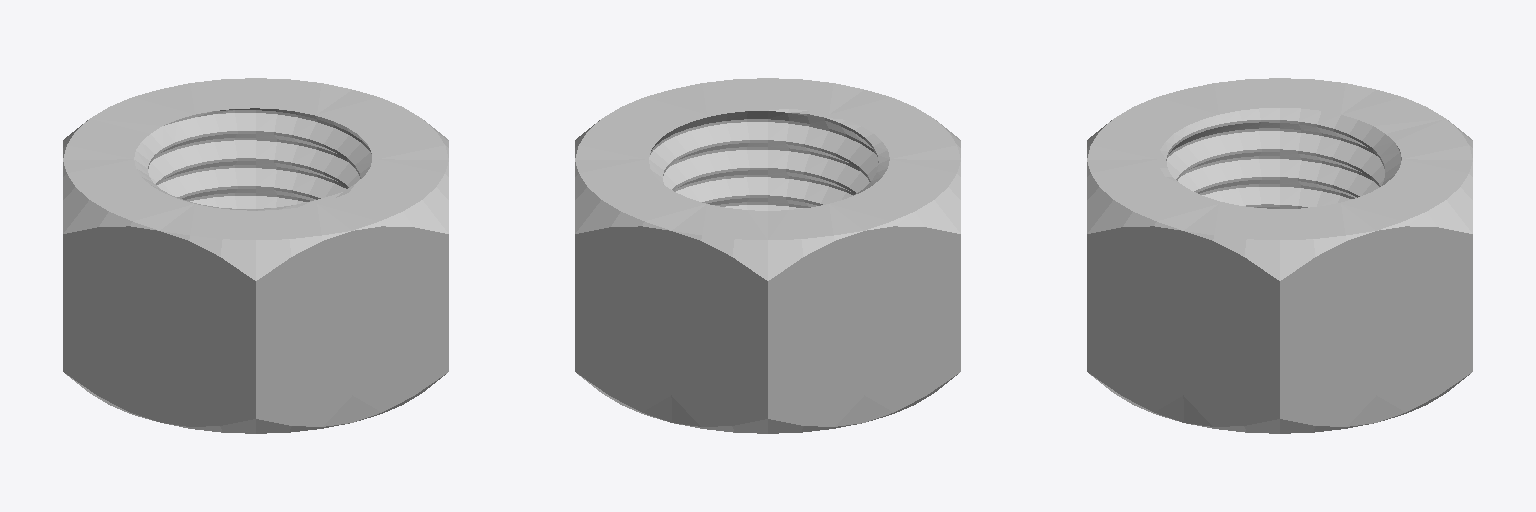
Rendered from anya2.obj.
3 views of the same model, side by side, from view 1: azimuth 30°, elevation 25°; view 2: azimuth 150°, elevation 25°; view 3: azimuth 270°, elevation 25° (orthographic).
Visible parts, largest first — view 1: anya; view 2: anya; view 3: anya.
Boxes of the visible parts, x1,y1,x2,y2 form: anya: [63, 78, 448, 433]; anya: [575, 78, 960, 433]; anya: [1087, 78, 1472, 433].
Bounding box in the file's own units: 0.1781 × 0.0852 × 0.1542.